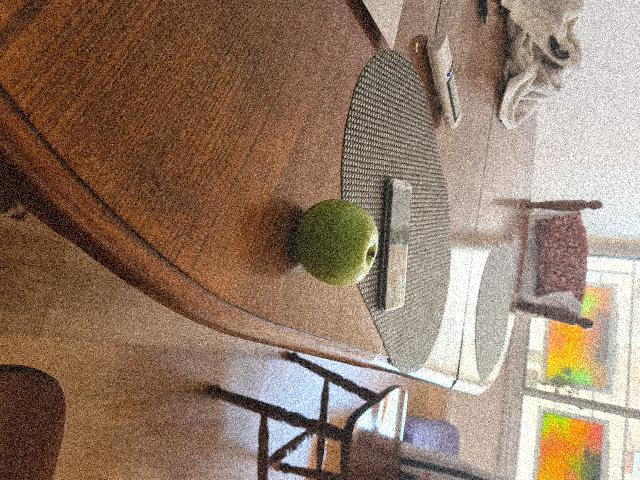apple: (294, 196, 376, 283)
